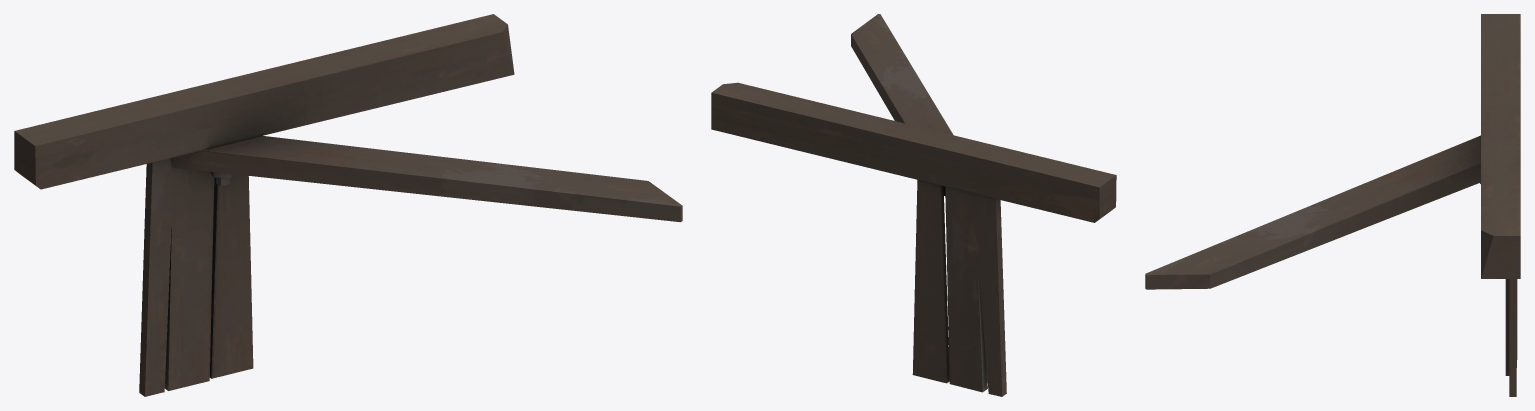
File: props_coalmines_wood_debris1.glb
The picture shows the model from 3 angles, left to right: view 1: azimuth 30°, elevation 25°; view 2: azimuth 150°, elevation 25°; view 3: azimuth 270°, elevation 25°; orthographic projection. The views are drawn at different scales.
Visible parts, largest first — view 1: models/props_coalmines/wood_debris1; view 2: models/props_coalmines/wood_debris1; view 3: models/props_coalmines/wood_debris1.
Part boxes in pixels (<box>): models/props_coalmines/wood_debris1: <box>14,14,682,396</box>; models/props_coalmines/wood_debris1: <box>711,14,1116,396</box>; models/props_coalmines/wood_debris1: <box>1145,14,1520,396</box>.
Size of the model in its own units: 126 by 73.02 by 90.23.
Materials: 1 (1 with a texture image).
